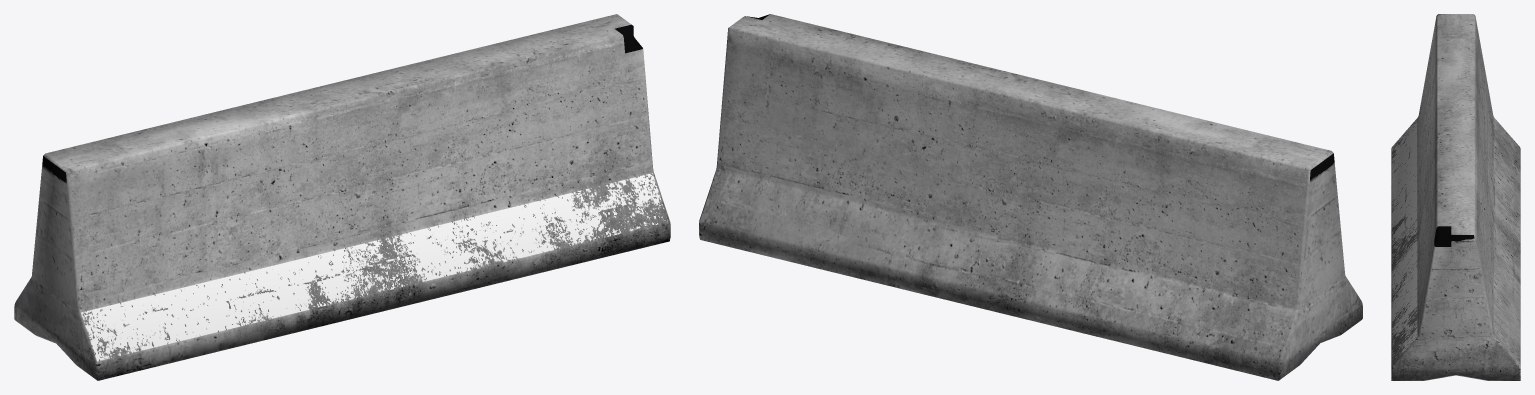
Rendered from Barrier.fbx.
3 views of the same model, side by side, from view 1: azimuth 30°, elevation 25°; view 2: azimuth 150°, elevation 25°; view 3: azimuth 270°, elevation 25° (orthographic). The views are drawn at different scales.
Visible parts, largest first — view 1: Barrier; view 2: Barrier; view 3: Barrier.
Boxes of the visible parts, x1,y1,x2,y2 form: Barrier: (14, 14, 670, 380); Barrier: (699, 14, 1362, 380); Barrier: (1391, 14, 1520, 380).
Size of the model in its own units: 2.58 by 0.8078 by 0.64.
